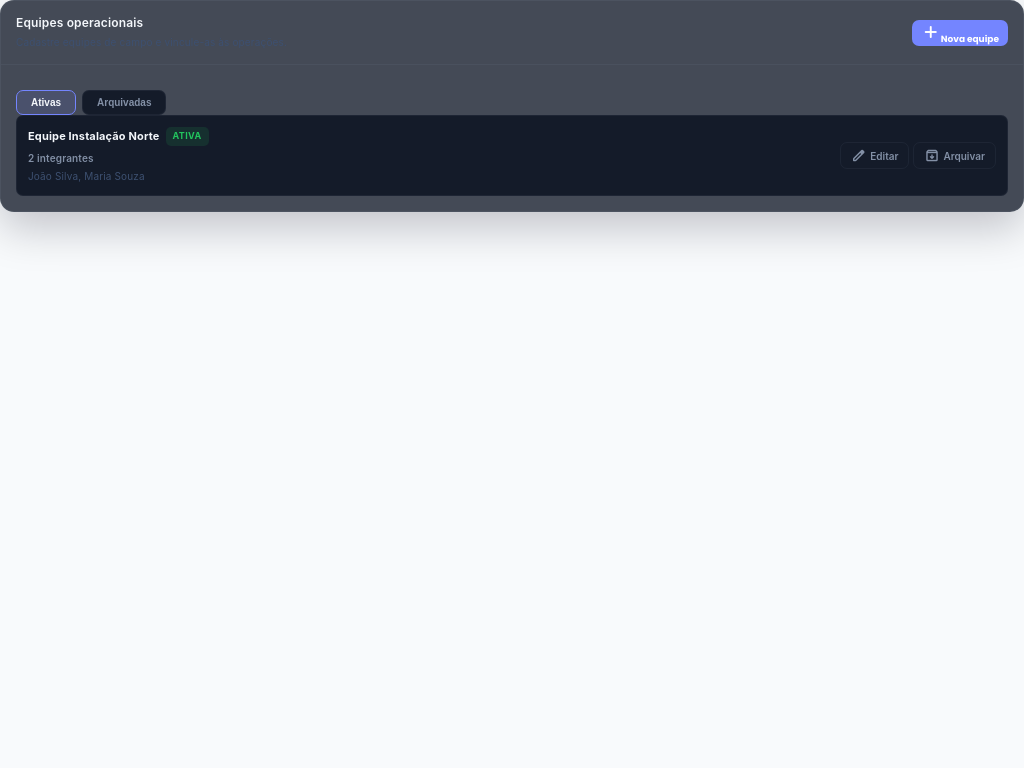
Scenario: OperationTeamsPanel › exibe mensagem amigável quando o nome da equipe já existe (409)
Click the button with test id "operation-team-new-btn".
click(960, 33)  # box [912,20,1008,46]
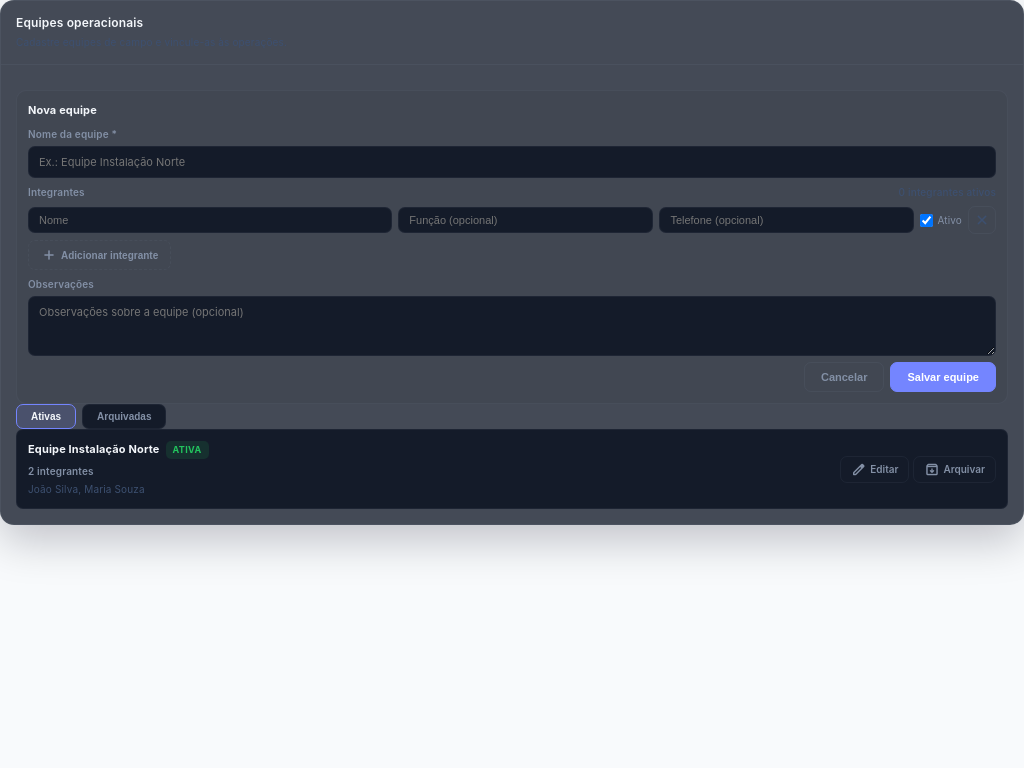
Type "Equipe Instalação Norte" into the field labelled "Nome da equipe *".
click(512, 162); type("Equipe Instalação Norte")  # box [28,146,996,178]
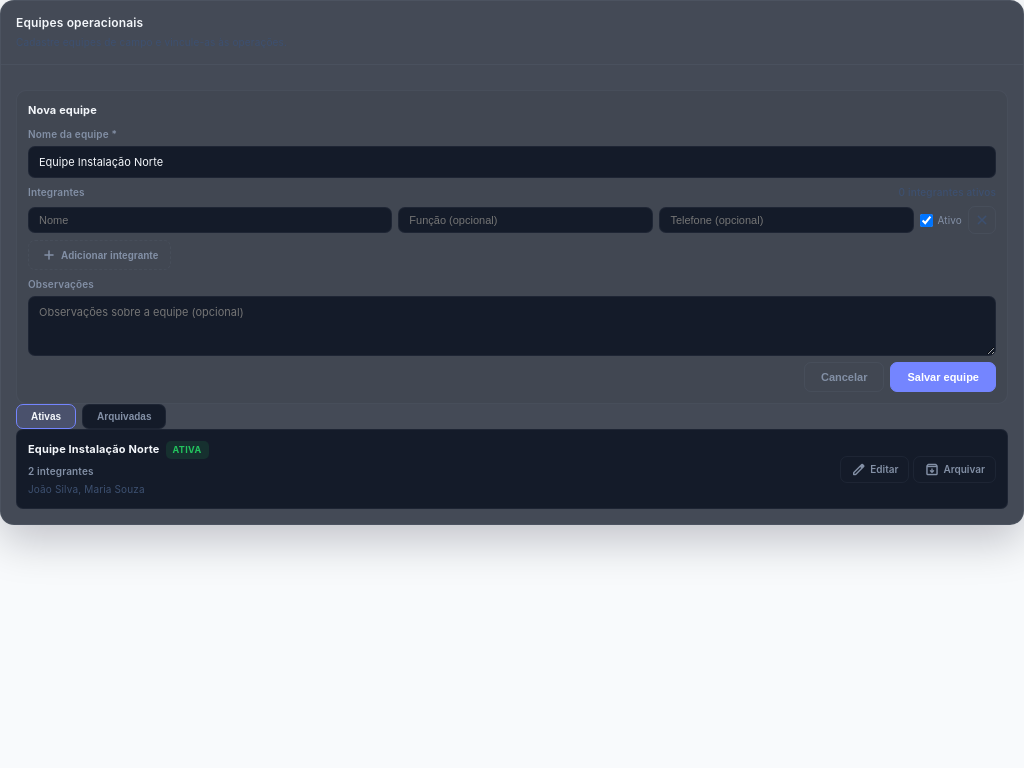
Click the button "Salvar equipe".
click(943, 377)  # box [890,362,996,392]
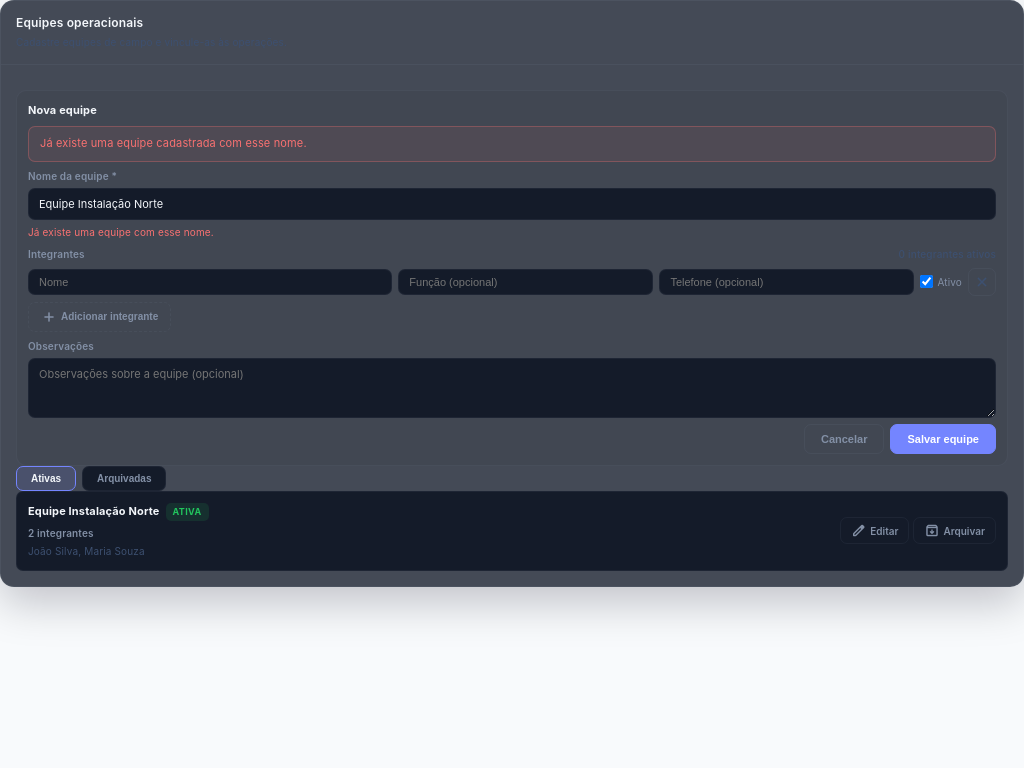
Now the text "Já existe uma equipe cadastrada com esse nome." is shown, box [28,126,996,162]
